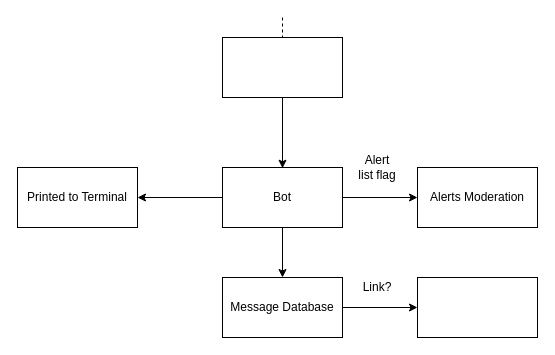
Some shapes in this 555 by 355 pixel diagram are drawn without their labels. The centre of each missing label's shape, as x and y in pixels:
"Special Database: Link Archive" belongs at (477,307).
"User Message" belongs at (282,67).
